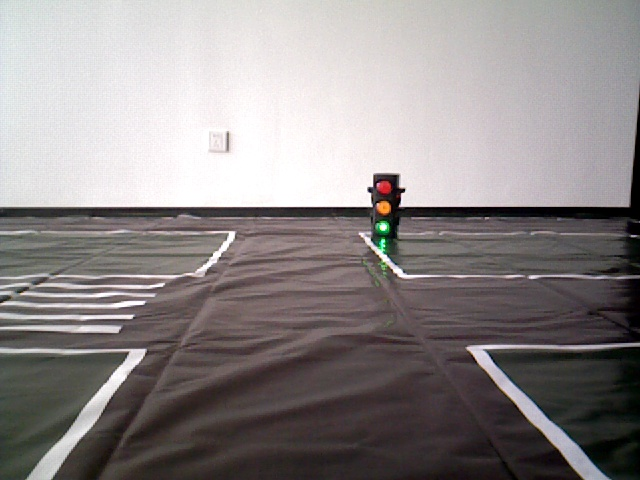green: (373, 176, 393, 236)
